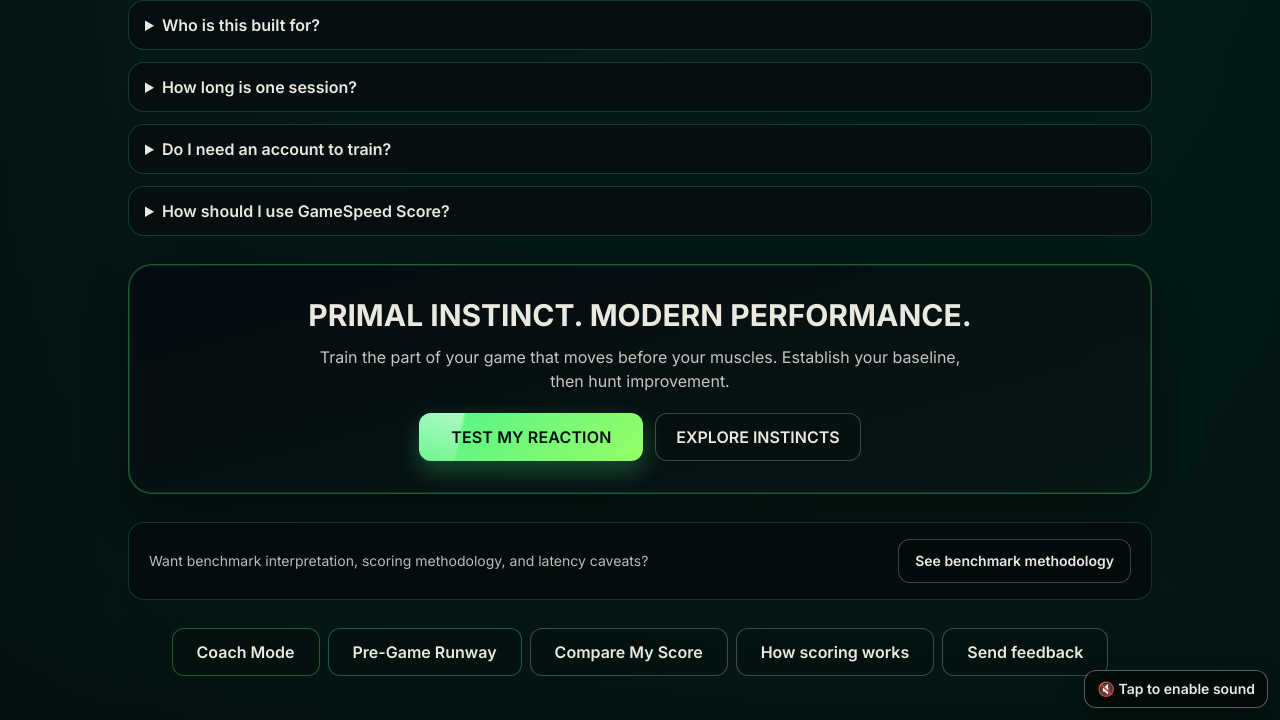
App integration flow › applies selected runway preset when starting the routine
(page scrolled)
Click the button "Pre-Game Runway".
click(425, 652)  # box x1=328 y1=628 x2=522 y2=676
(page scrolled)
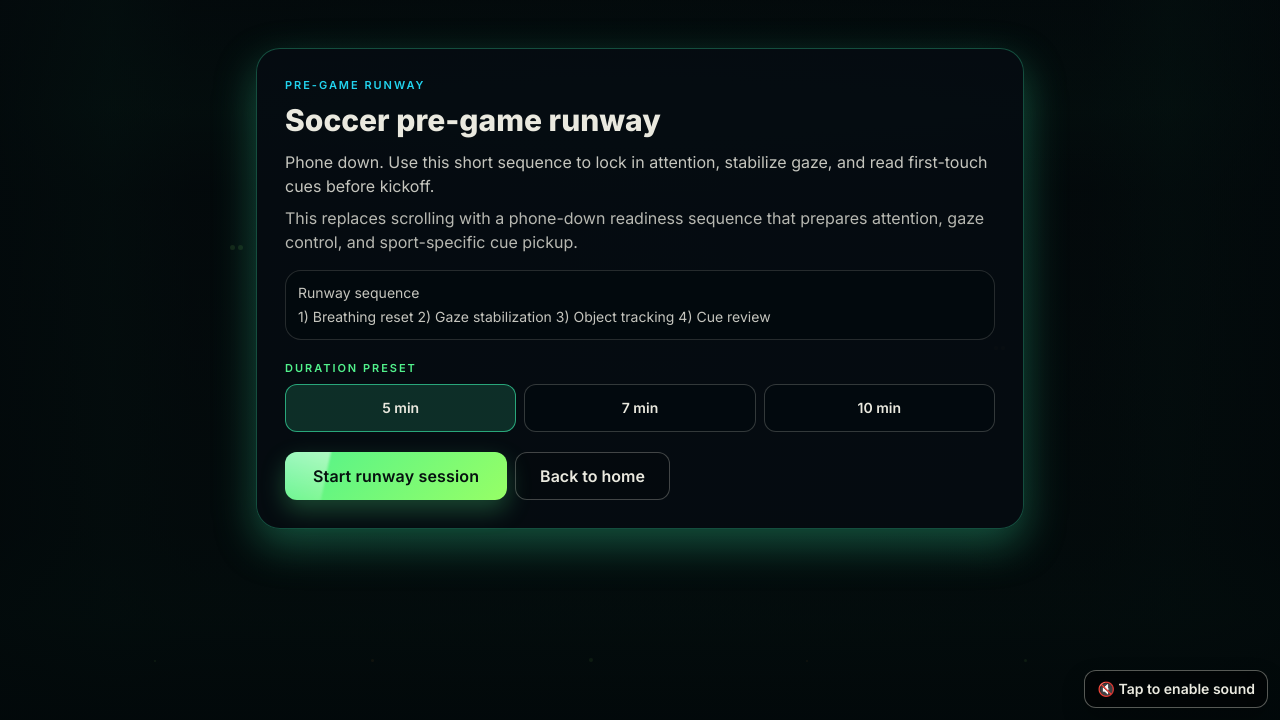
Click the button "10 min".
click(879, 408)  # box x1=764 y1=384 x2=995 y2=432
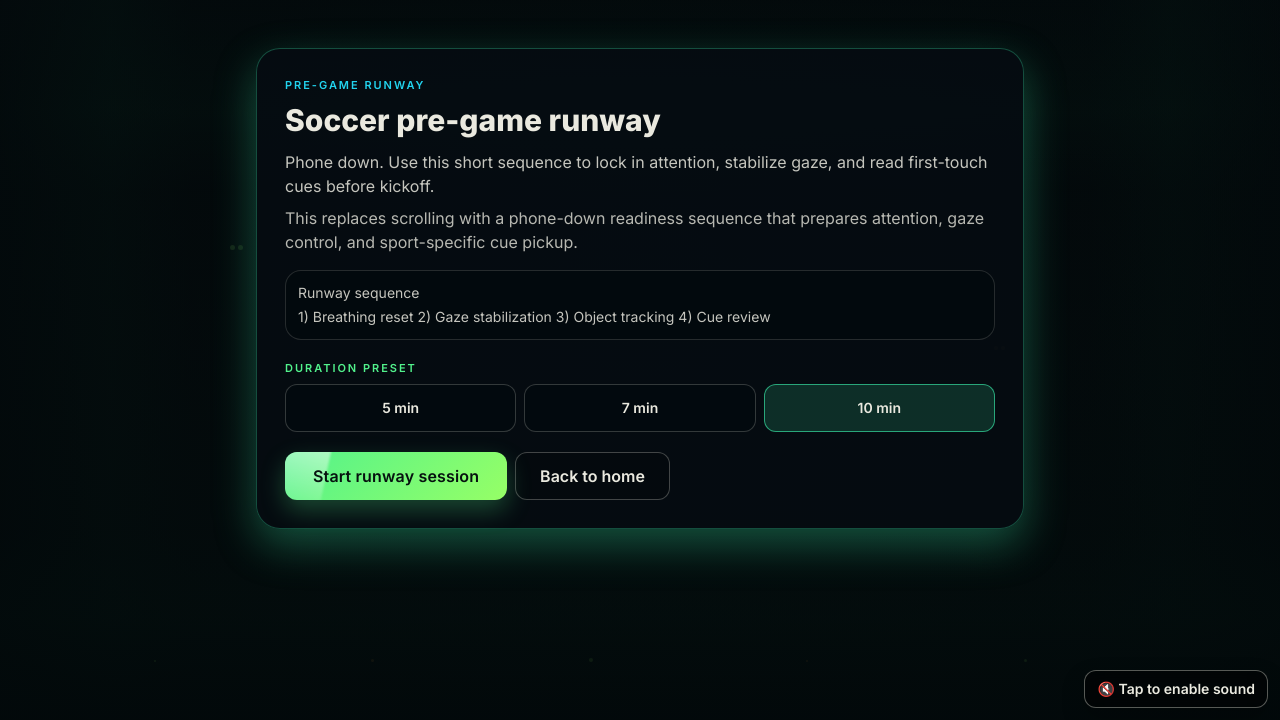
Check: the button "10 min" is pressed, box x1=764 y1=384 x2=995 y2=432
Click the button "Start runway session".
click(396, 476)  # box x1=285 y1=452 x2=507 y2=500
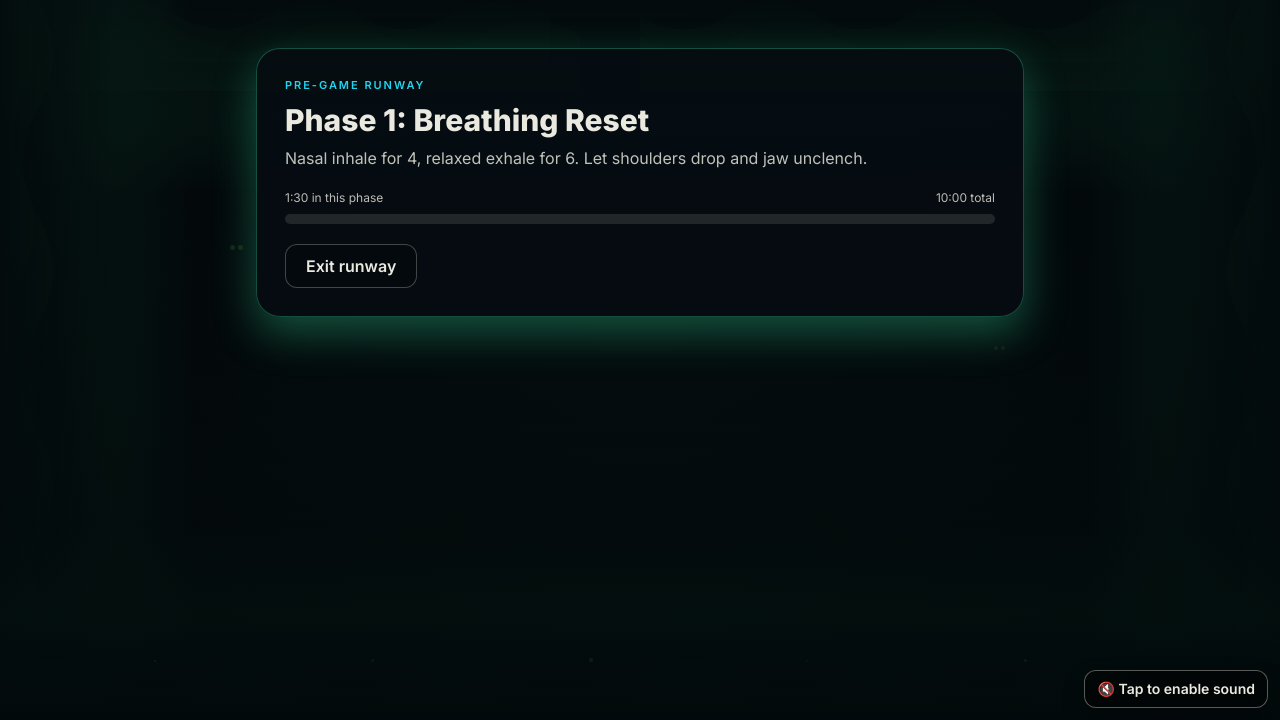
Check: the text "10:00 total" is shown, box x1=936 y1=190 x2=995 y2=206
